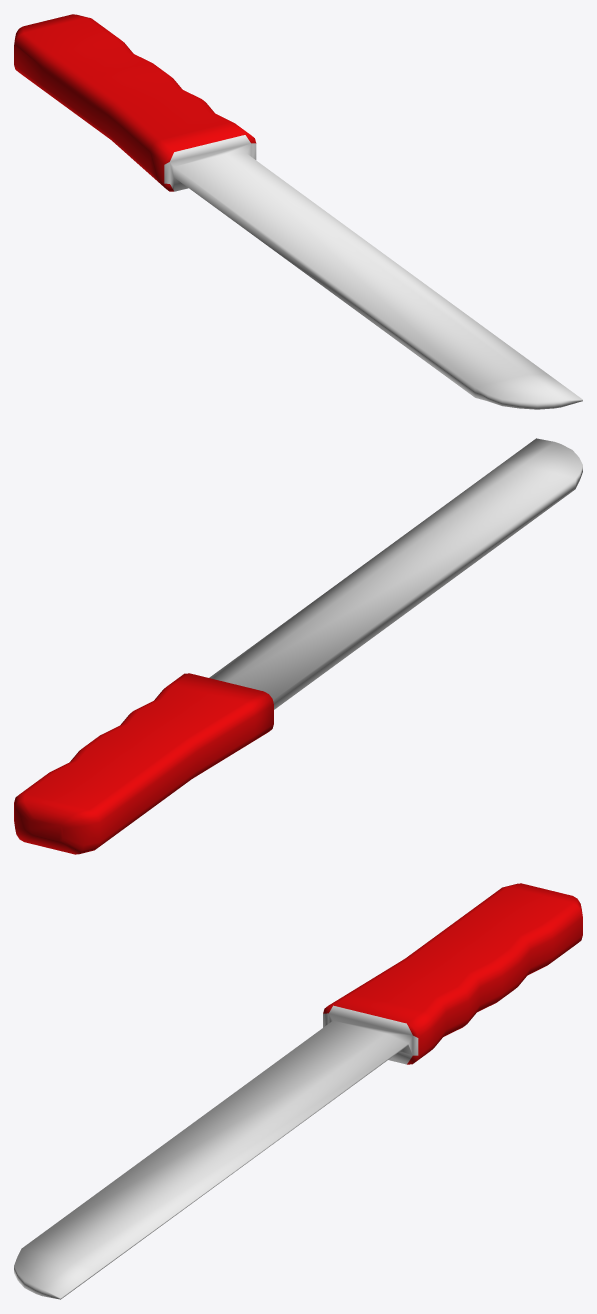
File: Knife.fbx
3 renders of one model, top to bottom at view 1: azimuth 30°, elevation 25°; view 2: azimuth 150°, elevation 25°; view 3: azimuth 330°, elevation 25°, orthographic. The views are drawn at different scales.
Visible parts, largest first — view 1: Knife; view 2: Knife; view 3: Knife.
Boxes of the visible parts, x1,y1,x2,y2 form: Knife: (14,14,582,409); Knife: (14,438,582,854); Knife: (14,883,582,1299).
Size of the model in its own units: 300 by 123 by 2851.
